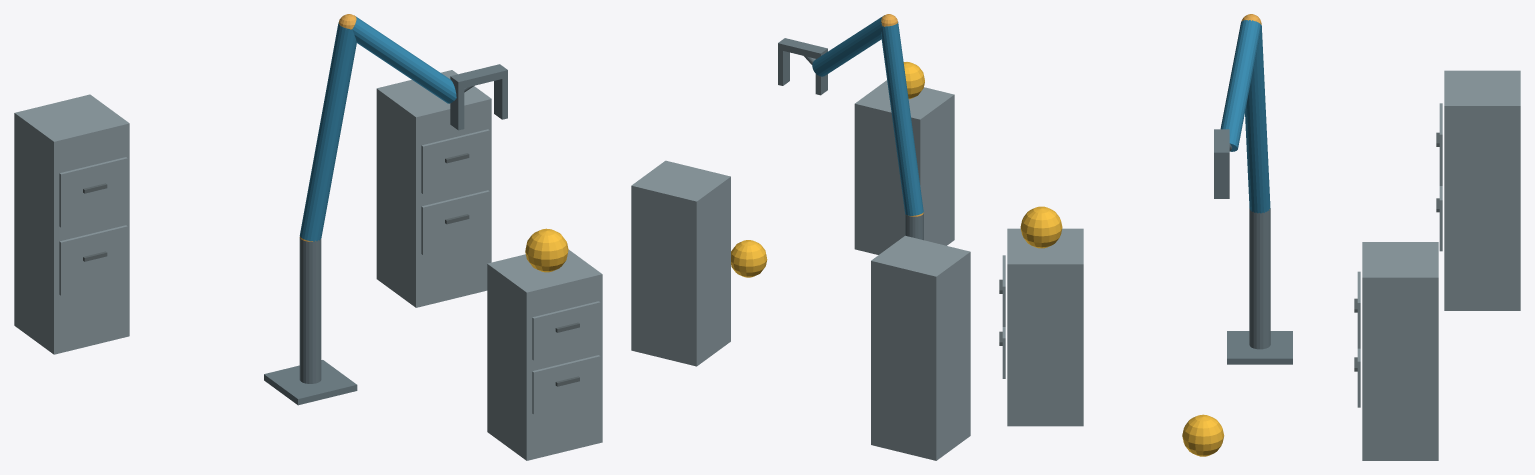
The picture shows the model from 3 angles, left to right: view 1: azimuth 30°, elevation 25°; view 2: azimuth 150°, elevation 25°; view 3: azimuth 270°, elevation 25°; orthographic projection. The views are drawn at different scales.
Parts seen in each view (by area): view 1: cabinet_3 body, cabinet_2 body, cabinet_1 body, moving link 1, cabinet_3 drawer front, cabinet_3 drawer front.001, cabinet_2 drawer front, cabinet_2 drawer front.001, fixed post, cabinet_1 drawer front, cabinet_1 drawer front.001, moving link 2 (+3 smaller); view 2: cabinet_3 body, cabinet_2 body, cabinet_1 body, moving link 1, moving link 2, ball ball_2, gripper bridge, released ball_1, fixed post, gripper finger 1; view 3: cabinet_3 body, cabinet_2 body, cabinet_1 body, moving link 1, fixed post, moving link 2, pedestal, ball ball_2, released ball_1, gripper finger 1.
Part boxes in pixels (x1,y1,x2,y2): cabinet_3 body: [14, 94, 129, 354]; cabinet_2 body: [376, 70, 491, 307]; cabinet_1 body: [487, 250, 602, 460]; moving link 1: [299, 22, 356, 241]; cabinet_3 drawer front: [59, 225, 127, 295]; cabinet_3 drawer front.001: [59, 157, 127, 227]; cabinet_2 drawer front: [421, 190, 489, 255]; cabinet_2 drawer front.001: [421, 129, 489, 194]; fixed post: [299, 236, 321, 383]; cabinet_1 drawer front: [532, 355, 600, 414]; cabinet_1 drawer front.001: [532, 301, 600, 360]; moving link 2: [352, 16, 456, 103]; cabinet_3 body: [871, 235, 970, 460]; cabinet_2 body: [631, 160, 730, 366]; cabinet_1 body: [854, 80, 954, 254]; moving link 1: [881, 22, 923, 215]; moving link 2: [812, 15, 884, 76]; ball ball_2: [731, 240, 767, 277]; gripper bridge: [778, 38, 827, 58]; released ball_1: [903, 62, 924, 99]; fixed post: [905, 212, 923, 240]; gripper finger 1: [778, 49, 789, 85]; cabinet_3 body: [1444, 70, 1520, 310]; cabinet_2 body: [1362, 242, 1438, 460]; cabinet_1 body: [1007, 228, 1083, 426]; moving link 1: [1245, 25, 1270, 213]; fixed post: [1249, 208, 1270, 349]; moving link 2: [1220, 20, 1261, 151]; pedestal: [1227, 331, 1292, 364]; ball ball_2: [1182, 414, 1224, 456]; released ball_1: [1020, 206, 1062, 248]; gripper finger 1: [1214, 159, 1229, 198].
Bounding box in the file's own units: 1.69 × 1.48 × 1.98.
